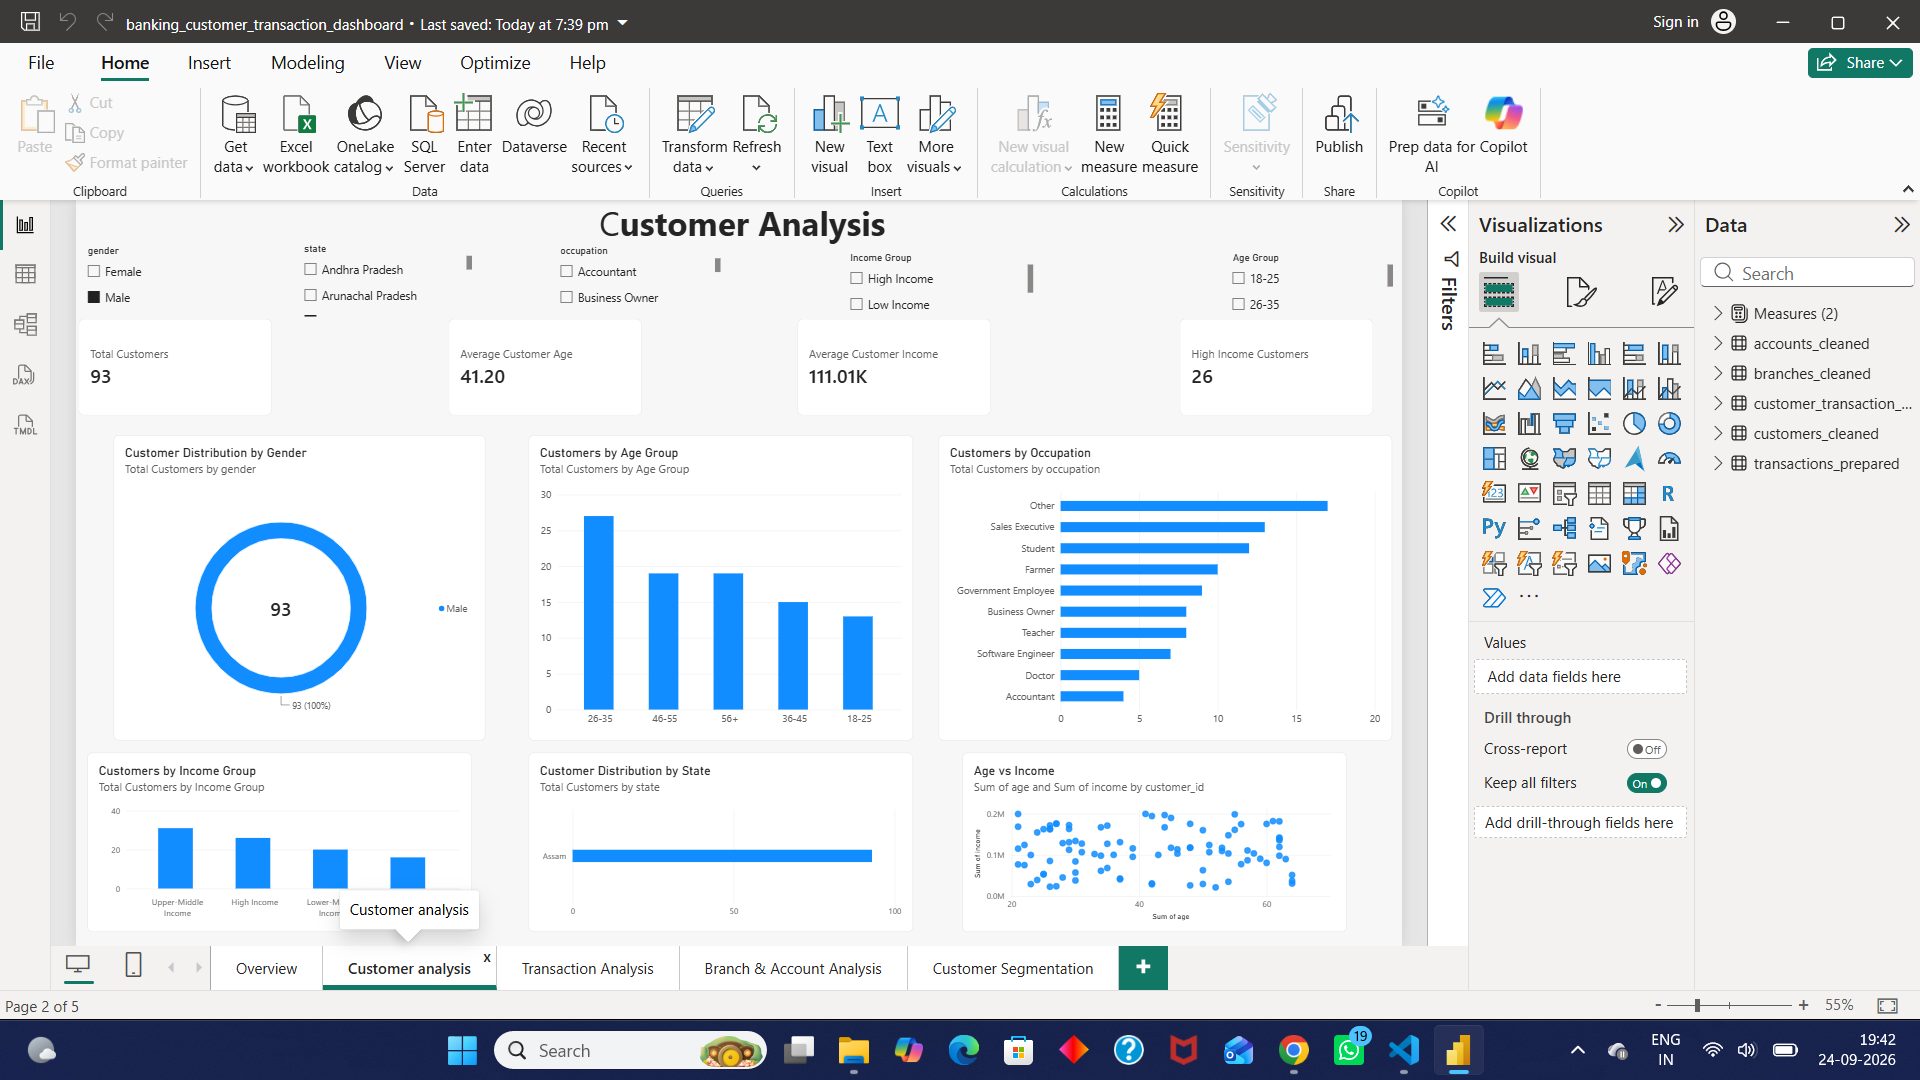

Layout of this report page (visuals, bound fields, positions):
{"tool":"powerbi","page":{"name":"Customer analysis","canvas":[1920,1080],"ordinal":1},"visuals":[{"type":"cardVisual","fields":{"Data":["Measures (2).Total Customers"]},"box":[3.7,171.6,280.4,140.2],"z":0},{"type":"cardVisual","fields":{"Data":["Measures (2).Average Customer Age"]},"box":[538.7,171.6,280.4,140.2],"z":1000},{"type":"cardVisual","fields":{"Data":["Measures (2).Average Customer Income"]},"box":[1044.1,171.6,280.4,140.2],"z":2000},{"type":"cardVisual","fields":{"Data":["Measures (2).High Income Customers"]},"box":[1597.5,171.6,280.4,140.2],"z":3000},{"type":"donutChart","title":"Customer Distribution by Gender","fields":{"Category":["customers_cleaned.gender"],"Y":["Measures (2).Total Customers"]},"box":[53.5,339.4,538.7,442.7],"z":3001},{"type":"columnChart","title":"Customers by Age Group","fields":{"Category":["customers_cleaned.Age Group"],"Y":["Measures (2).Total Customers"]},"box":[654.9,339.4,557.1,442.7],"z":3002},{"type":"barChart","title":"Customers by Occupation","fields":{"Category":["customers_cleaned.occupation"],"Y":["Measures (2).Total Customers"]},"box":[1248.9,339.4,656.7,442.7],"z":3003},{"type":"columnChart","title":"Customers by Income Group","fields":{"Category":["customers_cleaned.Income Group"],"Y":["Measures (2).Total Customers"]},"box":[16.6,800.6,557.1,260.1],"z":3004},{"type":"barChart","title":"Customer Distribution by State","fields":{"Category":["customers_cleaned.state"],"Y":["Measures (2).Total Customers"]},"box":[654.9,800.6,557.1,260.1],"z":3005},{"type":"scatterChart","title":"Age vs Income","fields":{"Category":["customers_cleaned.customer_id"],"X":["Sum(customers_cleaned.age)"],"Y":["Sum(customers_cleaned.income)"]},"box":[1283.9,800.6,557.1,260.1],"z":3006},{"type":"slicer","fields":{"Values":["customers_cleaned.gender"]},"box":[9.2,64.6,212.1,97.8],"z":3007},{"type":"slicer","fields":{"Values":["customers_cleaned.state"]},"box":[322.8,60.9,250.9,107],"z":3008},{"type":"slicer","fields":{"Values":["customers_cleaned.occupation"]},"box":[693.6,64.6,239.8,97.8],"z":3009},{"type":"slicer","fields":{"Values":["customers_cleaned.Income Group"]},"box":[1112.4,73.8,273,97.8],"z":3010},{"type":"slicer","fields":{"Values":["customers_cleaned.Age Group"]},"box":[1665.8,73.8,239.8,97.8],"z":3011},{"type":"textbox","box":[9.2,0,1911.2,64.6],"z":3012}]}

Visuals, with their boxes on the page's 1920x1080 design canvas (x1, y1, x2, y2). These are canvas units, not pixel positions in the 1920x1080 screenshot, which may show the page scaled, cropped or inside an application window:
cardVisual - Measures (2).Total Customers: left=4, top=172, right=284, bottom=312
cardVisual - Measures (2).Average Customer Age: left=539, top=172, right=819, bottom=312
cardVisual - Measures (2).Average Customer Income: left=1044, top=172, right=1324, bottom=312
cardVisual - Measures (2).High Income Customers: left=1598, top=172, right=1878, bottom=312
"Customer Distribution by Gender" donutChart: left=54, top=339, right=592, bottom=782
"Customers by Age Group" columnChart: left=655, top=339, right=1212, bottom=782
"Customers by Occupation" barChart: left=1249, top=339, right=1906, bottom=782
"Customers by Income Group" columnChart: left=17, top=801, right=574, bottom=1061
"Customer Distribution by State" barChart: left=655, top=801, right=1212, bottom=1061
"Age vs Income" scatterChart: left=1284, top=801, right=1841, bottom=1061
slicer - customers_cleaned.gender: left=9, top=65, right=221, bottom=162
slicer - customers_cleaned.state: left=323, top=61, right=574, bottom=168
slicer - customers_cleaned.occupation: left=694, top=65, right=933, bottom=162
slicer - customers_cleaned.Income Group: left=1112, top=74, right=1385, bottom=172
slicer - customers_cleaned.Age Group: left=1666, top=74, right=1906, bottom=172
textbox: left=9, top=0, right=1920, bottom=65
